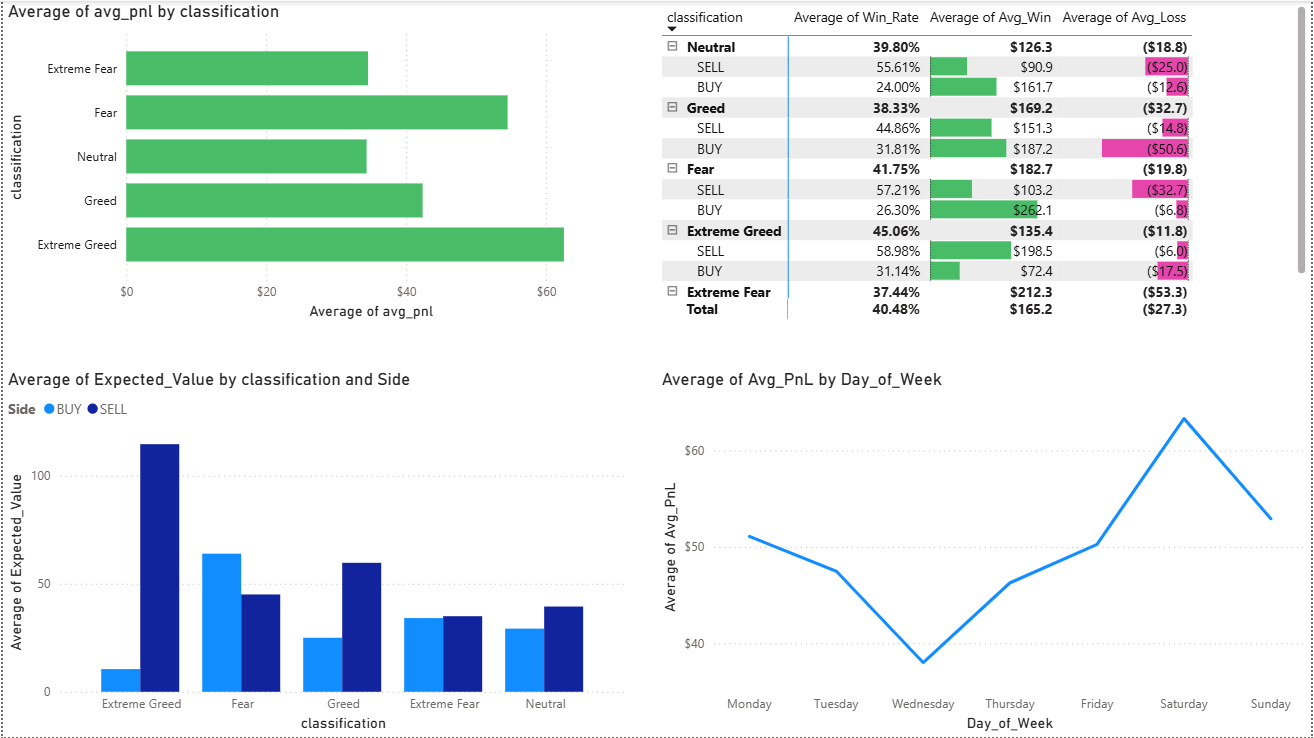

This screenshot's page, from the dashboard's own definition file:
{"tool":"powerbi","page":{"name":"Page 1","canvas":[1280,720],"ordinal":0},"visuals":[{"type":"clusteredBarChart","fields":{"Category":["sentiment_trading_summary.classification"],"Y":["Avg(sentiment_trading_summary.avg_pnl)"]},"box":[0,0,615,316.2],"z":0},{"type":"clusteredColumnChart","fields":{"Category":["insight_expected_value.classification"],"Y":["Avg(insight_expected_value.Expected_Value)"],"Series":["insight_expected_value.Side"]},"box":[0,360,615,360],"z":1},{"type":"pivotTable","fields":{"Rows":["insight_expected_value.classification","insight_expected_value.Side"],"Values":["Avg(insight_expected_value.Win_Rate)","Avg(insight_expected_value.Avg_Win)","Avg(insight_expected_value.Avg_Loss)"]},"box":[640,0,640,316.2],"z":2},{"type":"lineChart","fields":{"Category":["insight_day_of_week.Day_of_Week"],"Y":["Avg(insight_day_of_week.Avg_PnL)"]},"box":[640,360,640,360],"z":3}]}

Visuals, with their boxes in screenshot pixels (x1, y1, x2, y2), scaled from the page's 1280x720 canvas onto the 1314x738 screenshot:
clusteredBarChart - sentiment_trading_summary.classification x Avg(sentiment_trading_summary.avg_pnl): crop(0, 0, 631, 324)
clusteredColumnChart - insight_expected_value.classification x Avg(insight_expected_value.Expected_Value): crop(0, 369, 631, 737)
pivotTable - insight_expected_value.classification x insight_expected_value.Side: crop(657, 0, 1313, 324)
lineChart - insight_day_of_week.Day_of_Week x Avg(insight_day_of_week.Avg_PnL): crop(657, 369, 1313, 737)
